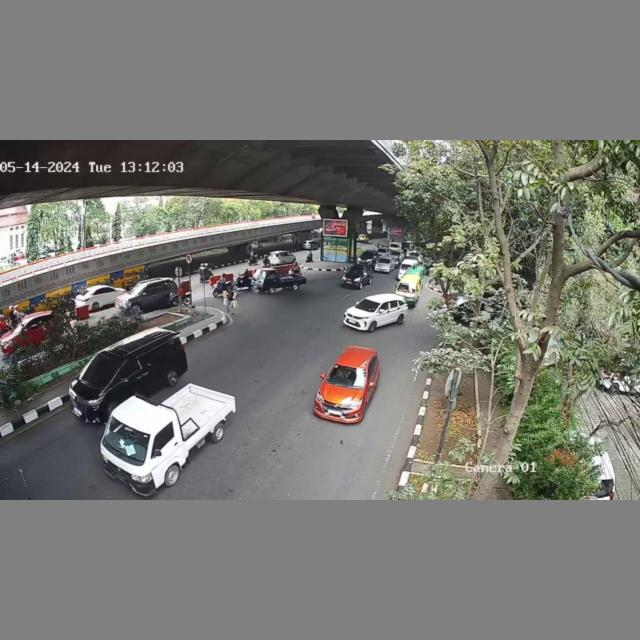windshield: (102, 416, 153, 463), (79, 353, 124, 387), (326, 365, 368, 387)
